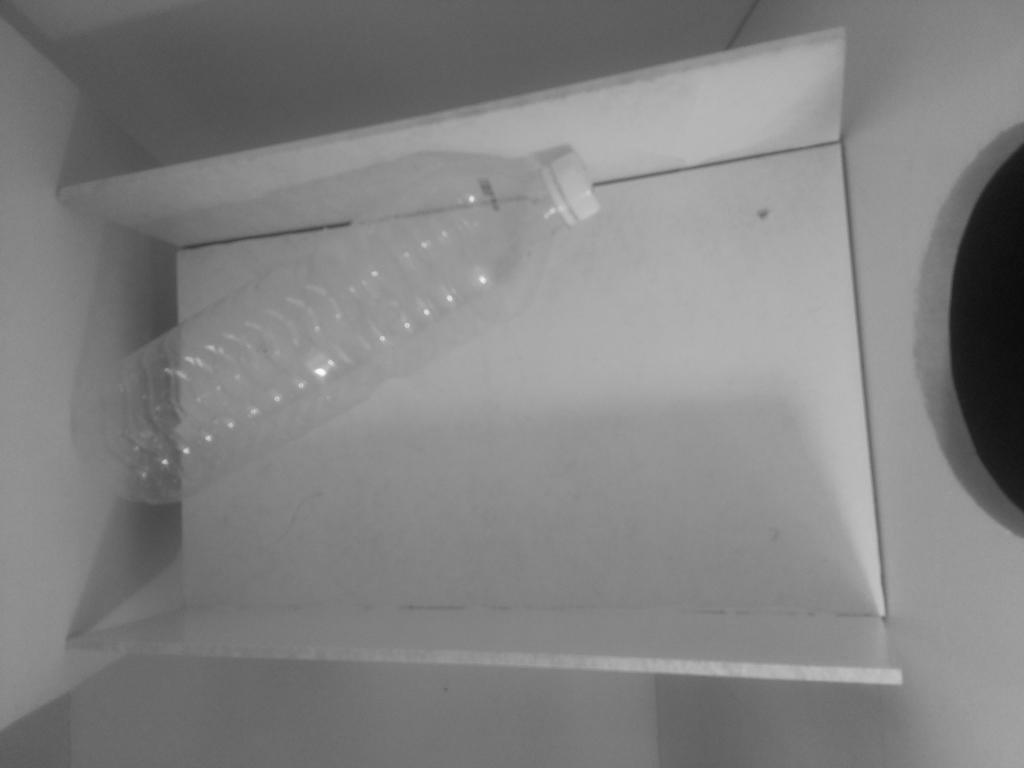bottle: (105, 158, 619, 543)
